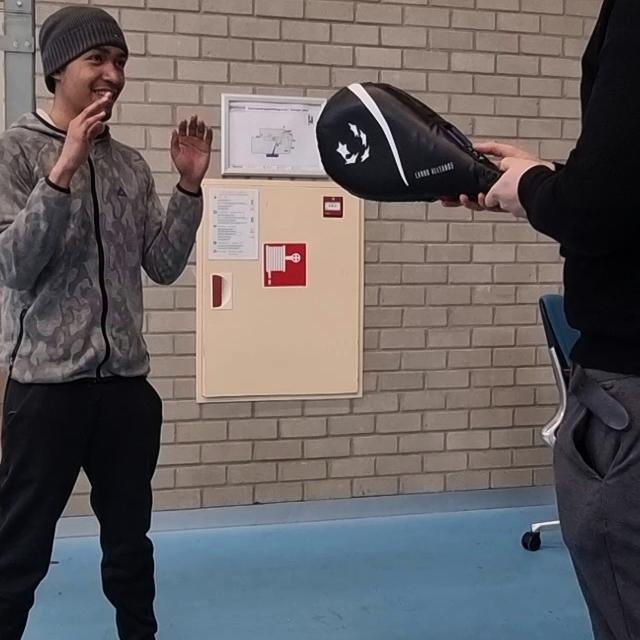paddle: (317, 82, 503, 203)
